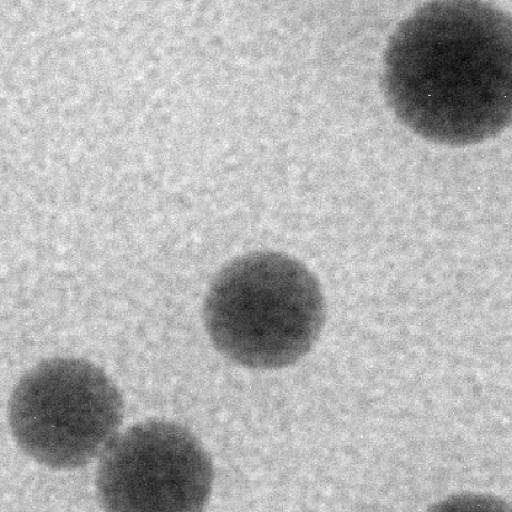Nanoparticles: (379, 0, 512, 155), (196, 245, 329, 373), (8, 354, 127, 472), (95, 410, 213, 512), (427, 486, 511, 512)
